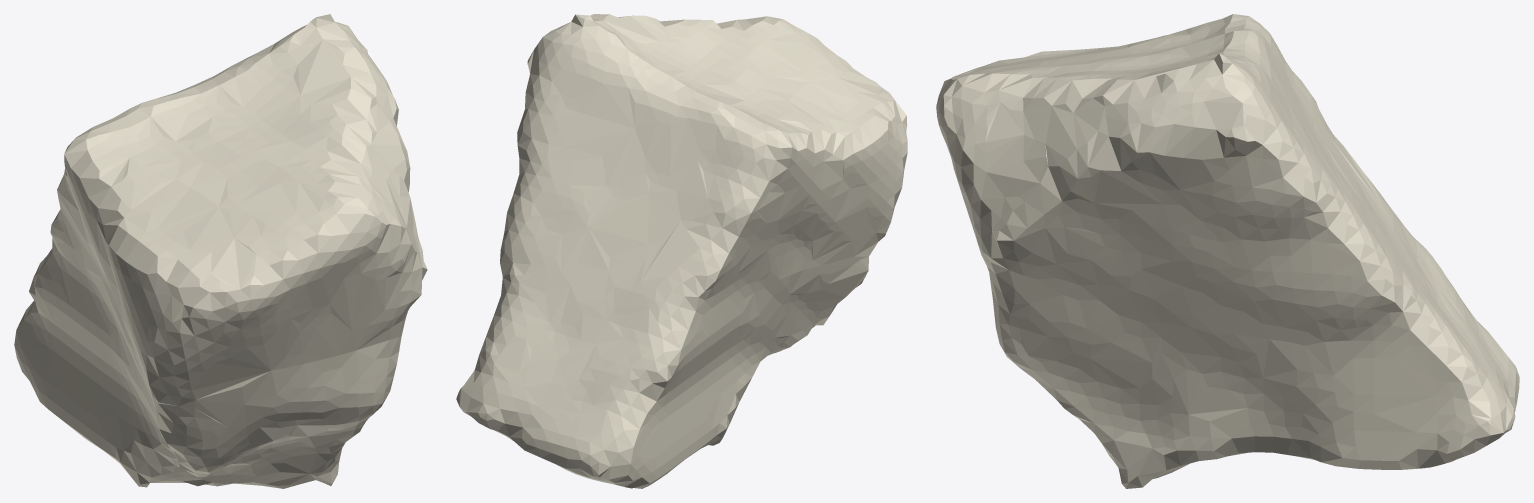
Rendered from Model_75_RH__Area_47_(old_12)_of_cortex__orbital_part_(A47O).obj.
The picture shows the model from 3 angles, left to right: view 1: azimuth 30°, elevation 25°; view 2: azimuth 150°, elevation 25°; view 3: azimuth 270°, elevation 25°; orthographic projection. The views are drawn at different scales.
Bounding box in the file's own units: 1.88 × 2.5 × 2.84.
